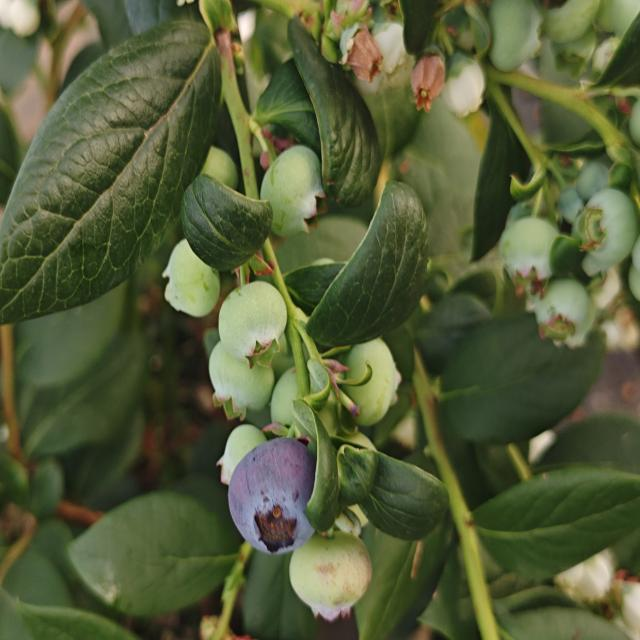ripe: (228, 432, 316, 550)
